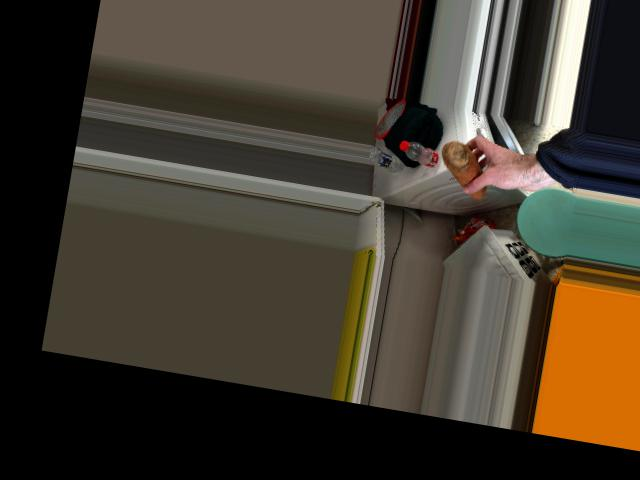sweet_potato: (435, 135, 493, 205)
